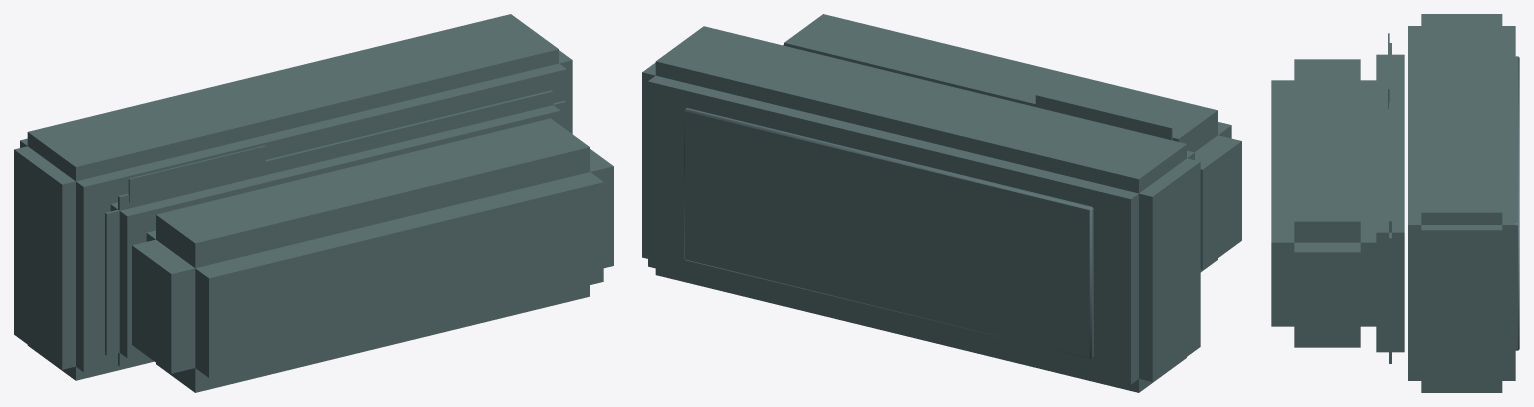
Rendered from OBJ-067_LamparaEmergencia.fbx.
3 views of the same model, side by side, from view 1: azimuth 30°, elevation 25°; view 2: azimuth 150°, elevation 25°; view 3: azimuth 270°, elevation 25° (orthographic). The views are drawn at different scales.
Parts seen in each view (by area): view 1: GEO-OBJ-067_LamparaEmergencia; view 2: GEO-OBJ-067_LamparaEmergencia; view 3: GEO-OBJ-067_LamparaEmergencia.
Part boxes in pixels (x1,y1,x2,y2): GEO-OBJ-067_LamparaEmergencia: (14, 14, 613, 392); GEO-OBJ-067_LamparaEmergencia: (642, 14, 1241, 392); GEO-OBJ-067_LamparaEmergencia: (1271, 14, 1519, 392).
Size of the model in its own units: 0.3 by 0.12 by 0.1506.
